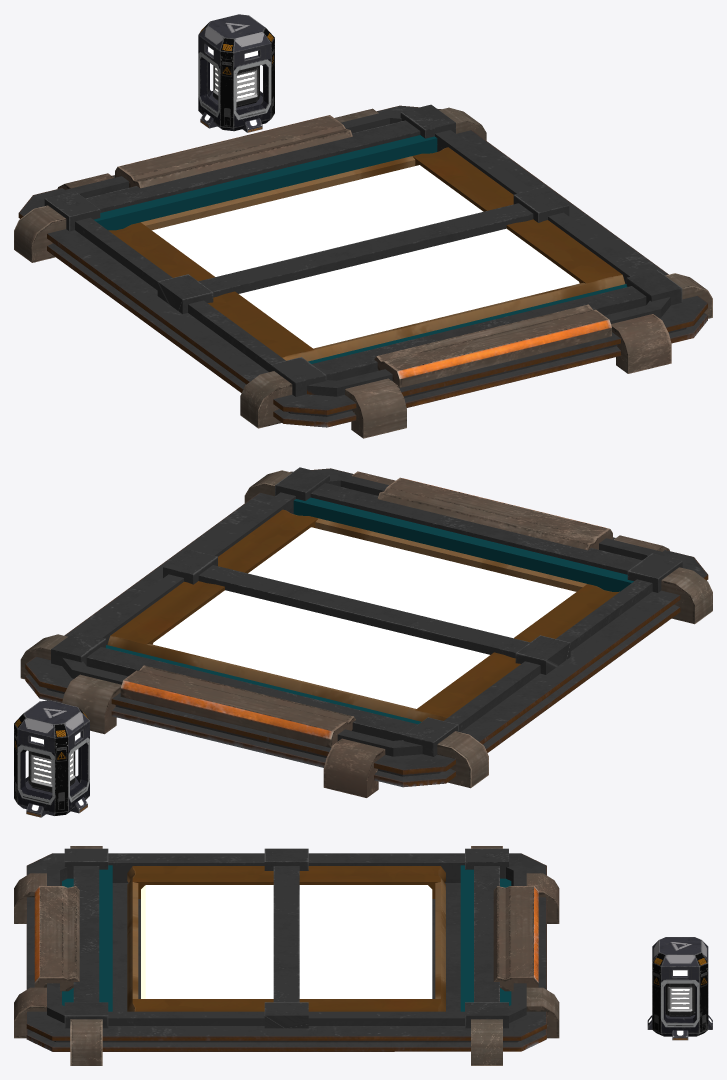
The model's file is Obj_Light-Battery.fbx.
3 views of the same model, one above another, from view 1: azimuth 30°, elevation 25°; view 2: azimuth 150°, elevation 25°; view 3: azimuth 270°, elevation 25° (orthographic). The views are drawn at different scales.
Visible parts, largest first — view 1: Obj_Am_LightCeiling, Obj_BatteryCover, Battery; view 2: Obj_Am_LightCeiling, Obj_BatteryCover, Battery; view 3: Obj_Am_LightCeiling, Obj_BatteryCover, Battery.
Boxes of the visible parts, x1,y1,x2,y2 form: Obj_Am_LightCeiling: (14,104,712,438); Obj_BatteryCover: (198,14,274,132); Battery: (213,65,260,107); Obj_Am_LightCeiling: (20,467,712,797); Obj_BatteryCover: (14,700,89,817); Battery: (28,751,75,792); Obj_Am_LightCeiling: (14,846,559,1065); Obj_BatteryCover: (647,937,712,1040); Battery: (665,983,695,1016).
Bounding box in the file's own units: 299 × 57.12 × 449.
Materials: 3 (3 with a texture image).
